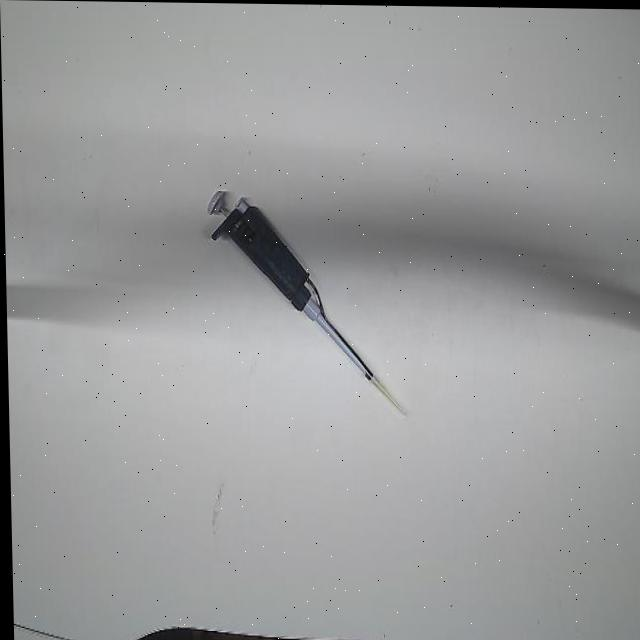Single Channel Pipettor: (204, 182, 378, 387)
